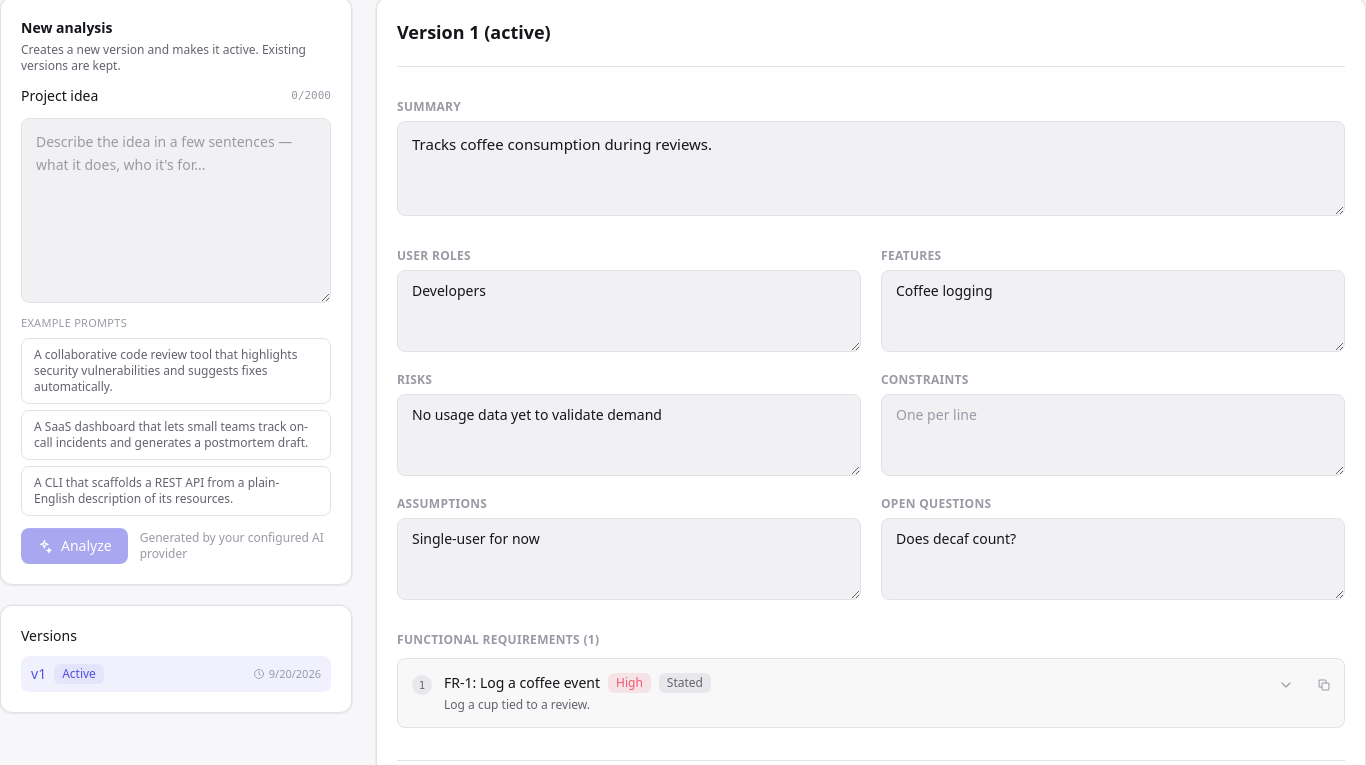
Test: RequirementsSection — populated state › saves edited fields via PATCH and surfaces a server error if it fails
Replace the text in the text box named "Project summary" below "Summary" with "An edited summary." at (871, 169), box [397,121,1345,216]
(page scrolled)
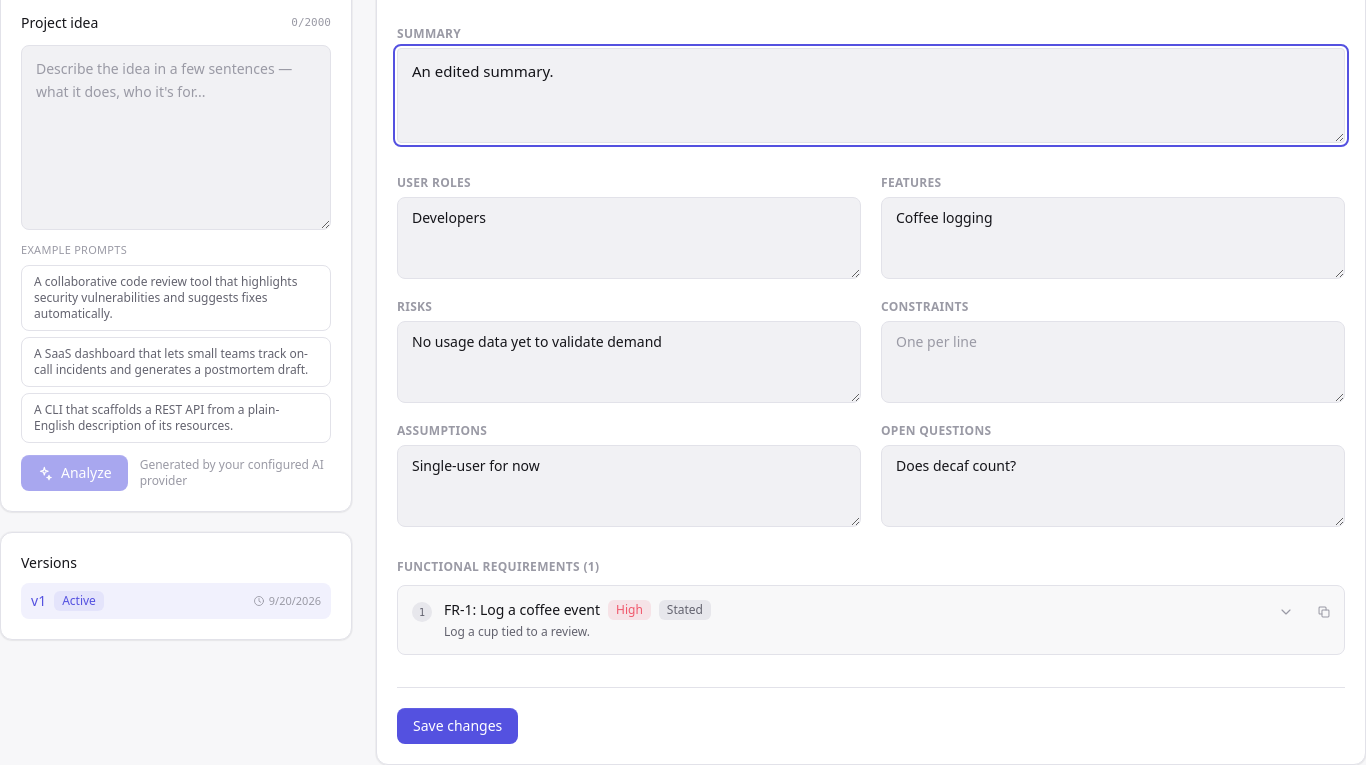
Click the button "Save changes" at (458, 726), box [397,708,518,744]
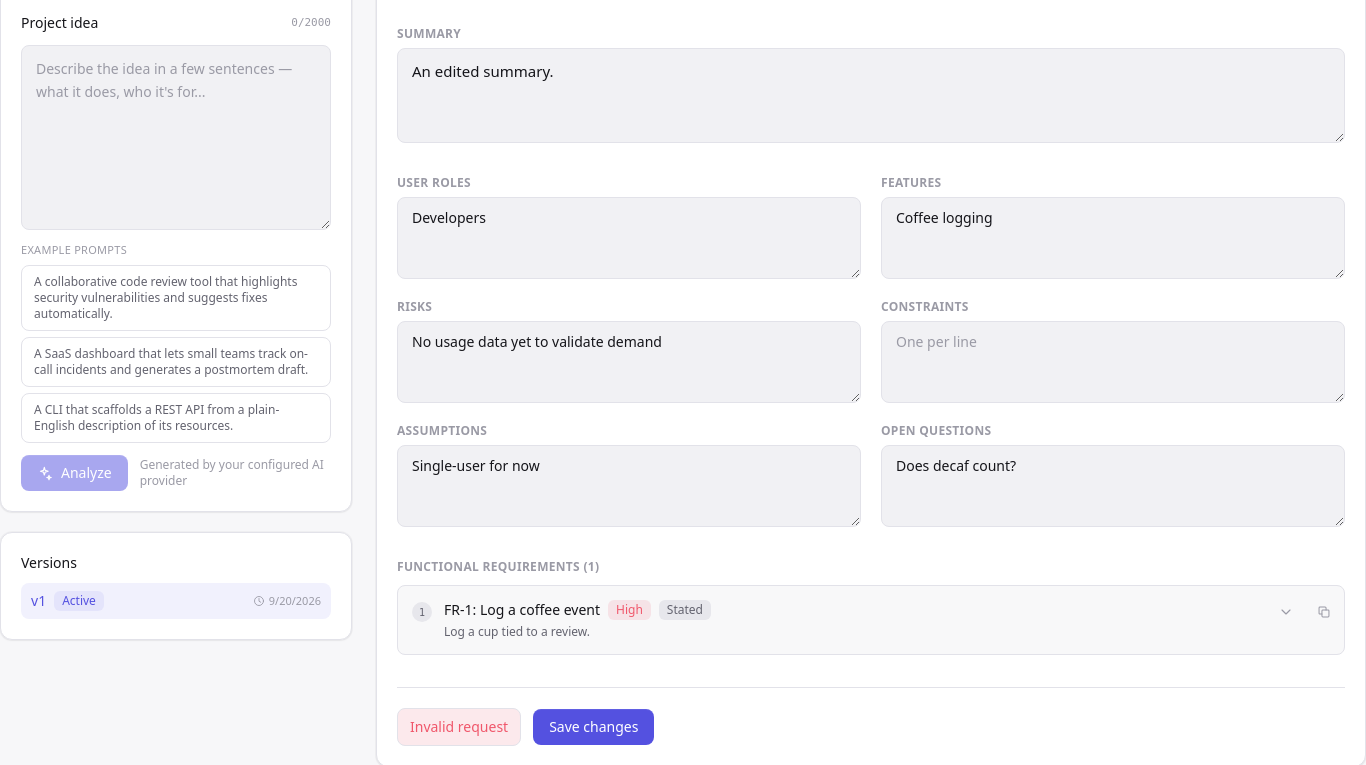
Check: the text "Invalid request" is shown, box [397,708,521,746]
